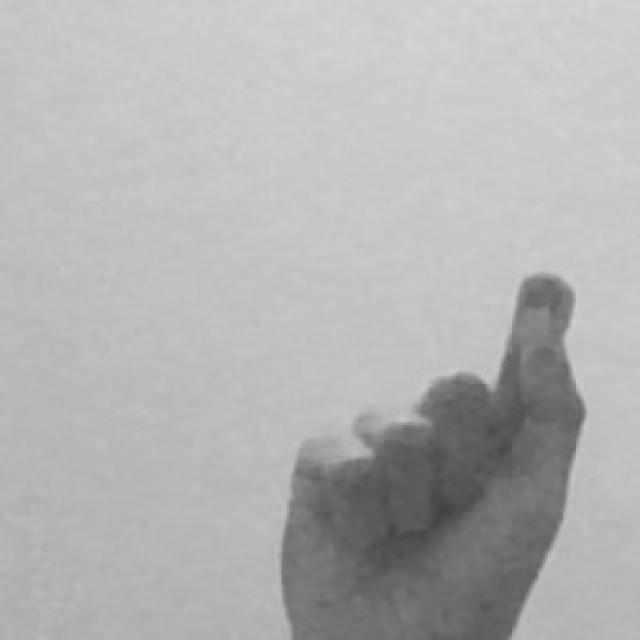T: (275, 266, 594, 640)
